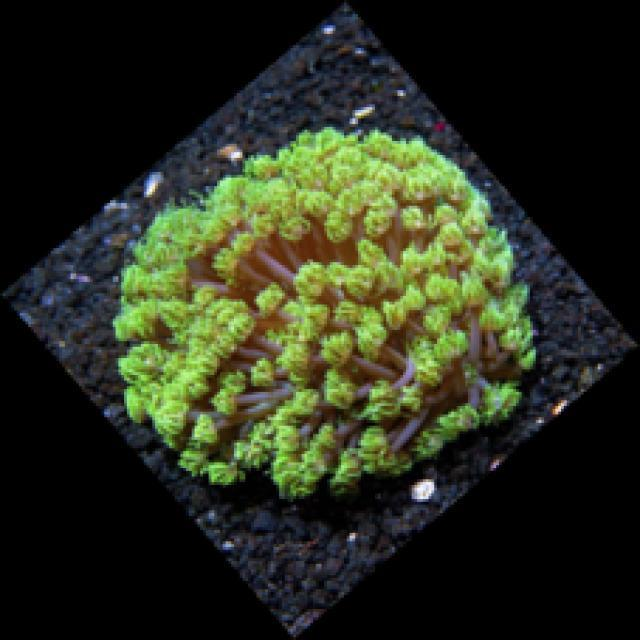Healthy: (112, 127, 538, 504)
